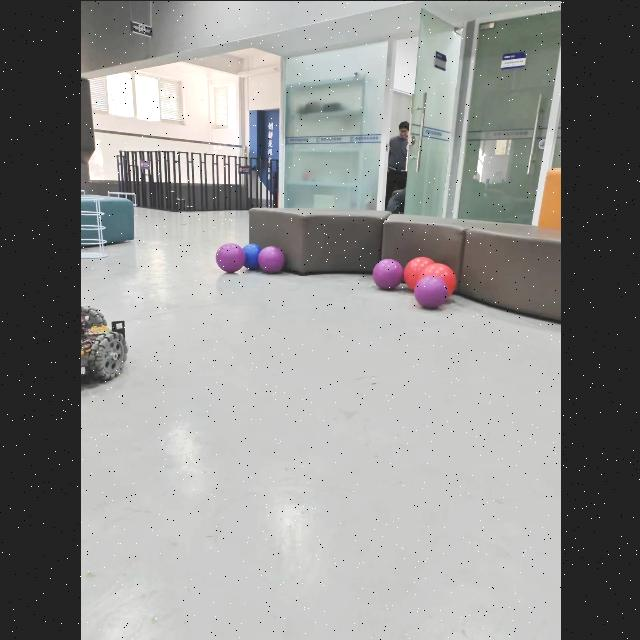B: (242, 242, 261, 269)
P: (413, 275, 446, 307), (371, 258, 403, 288), (215, 242, 244, 272), (257, 245, 283, 273)
R: (417, 263, 455, 295), (403, 256, 433, 289)
S: (80, 194, 106, 257)
